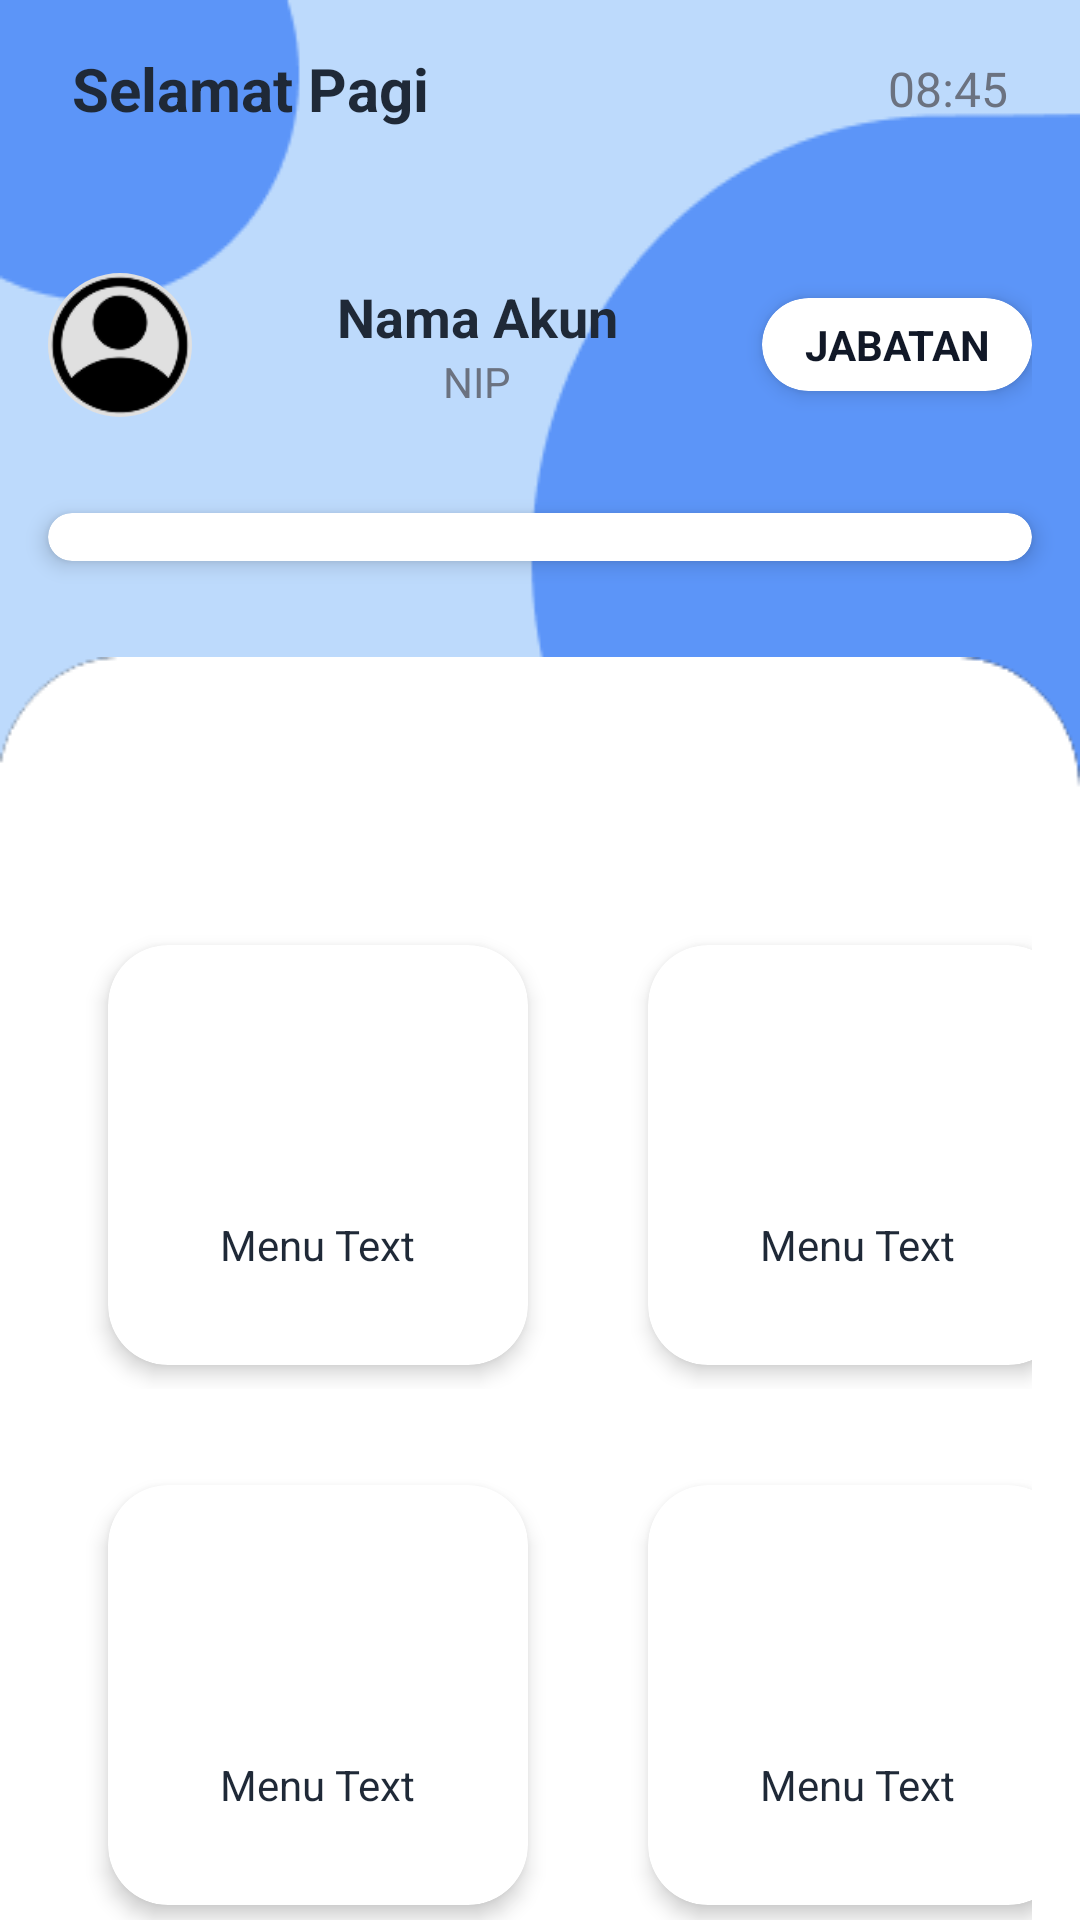

Where to tap for icons on this 1080w x 1920h app screen, as point (x, y):
account: point (120, 345)
